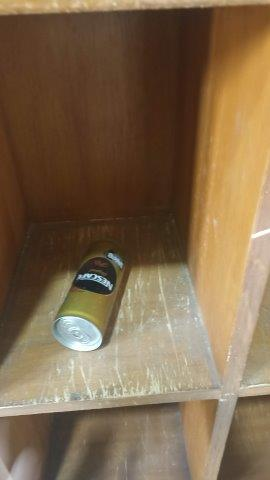kaleng: (52, 240, 129, 349)
